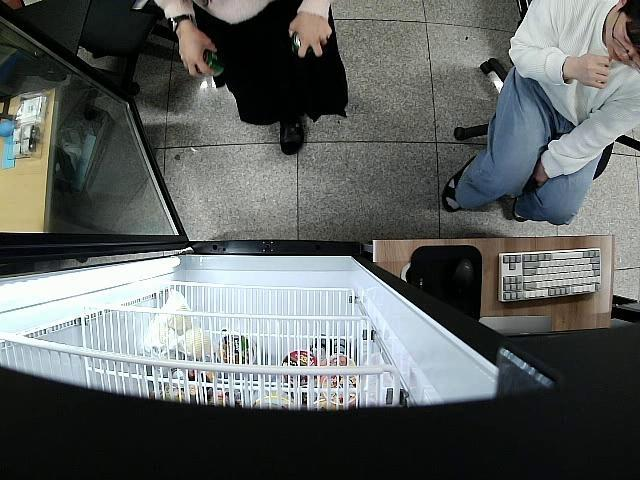12_chilsungCider: (196, 50, 225, 78), (292, 32, 312, 54)
